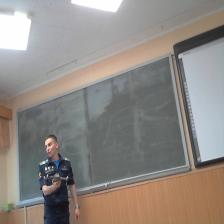drone: (38, 166, 74, 186)
